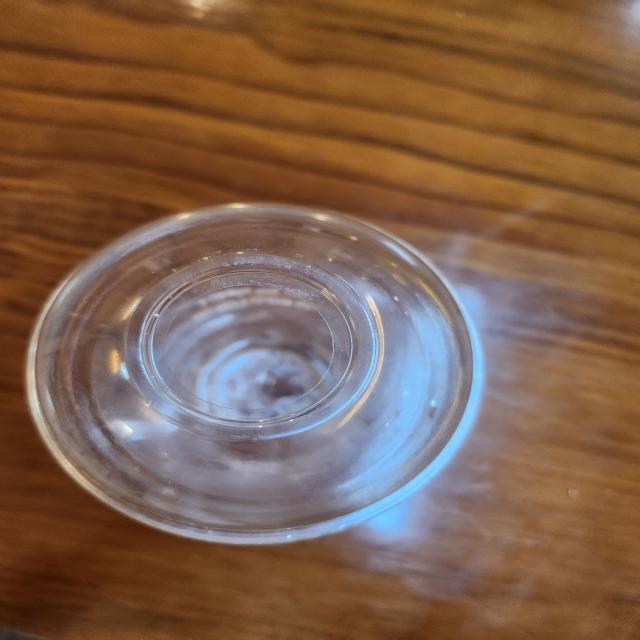plastic_cup_lid: (28, 191, 488, 561)
